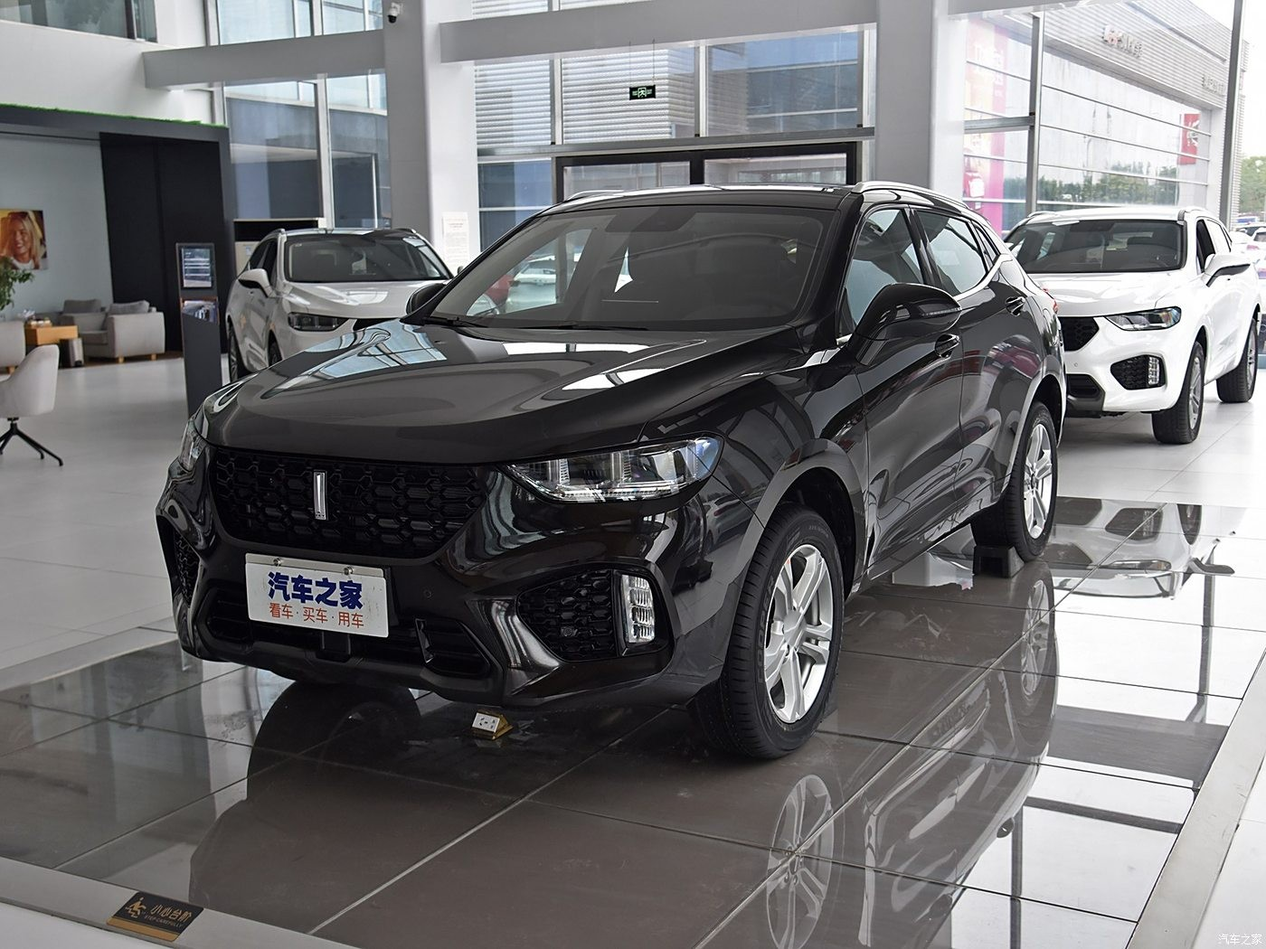WEY: (315, 472, 325, 519)
